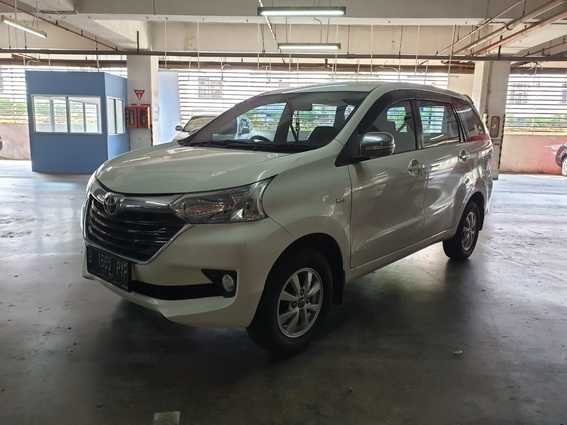mobil: (74, 50, 499, 353)
